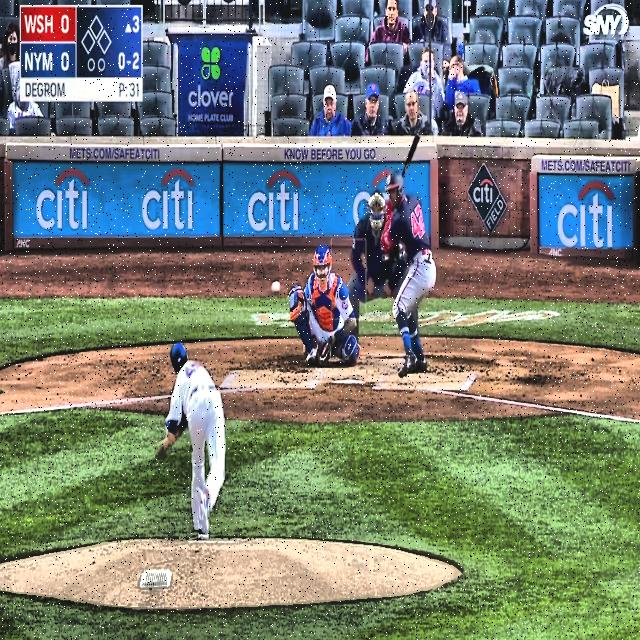baseball: (272, 280, 280, 294)
